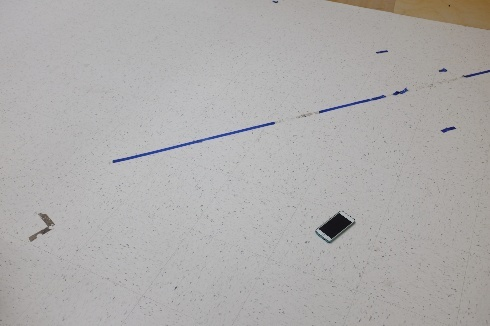phone: (311, 210, 360, 242)
